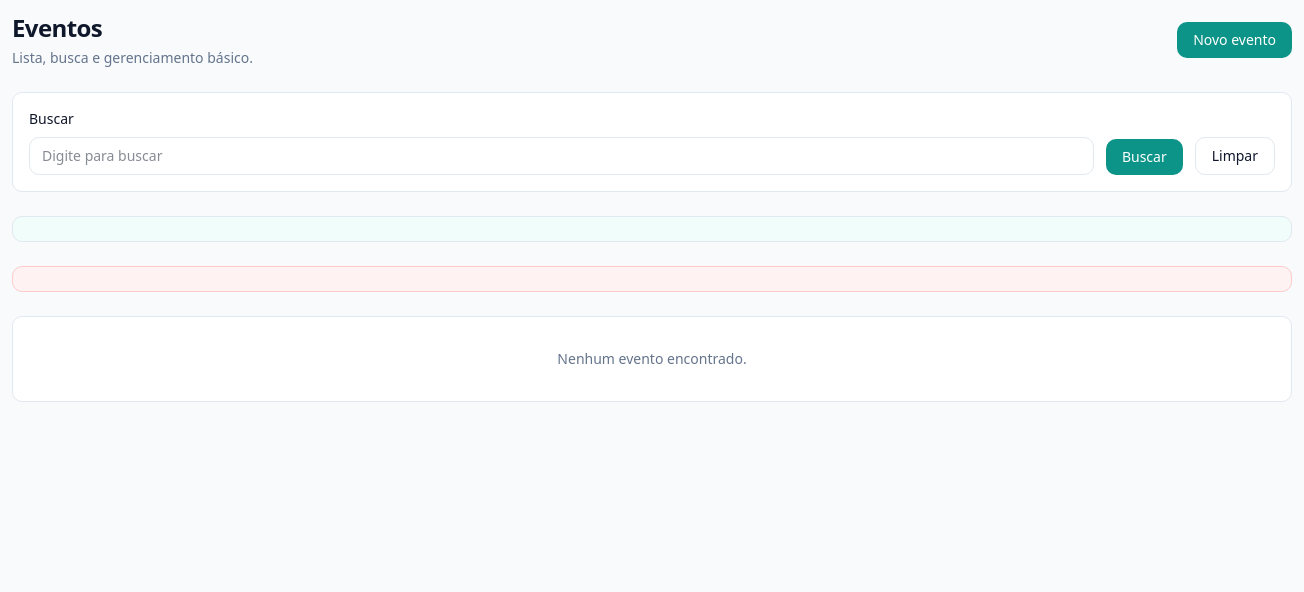
Test: EventoLista › searches by q on submit
Type "Vue" into the field with placeholder "Digite para buscar" at [561, 156], box [29,137,1094,175]
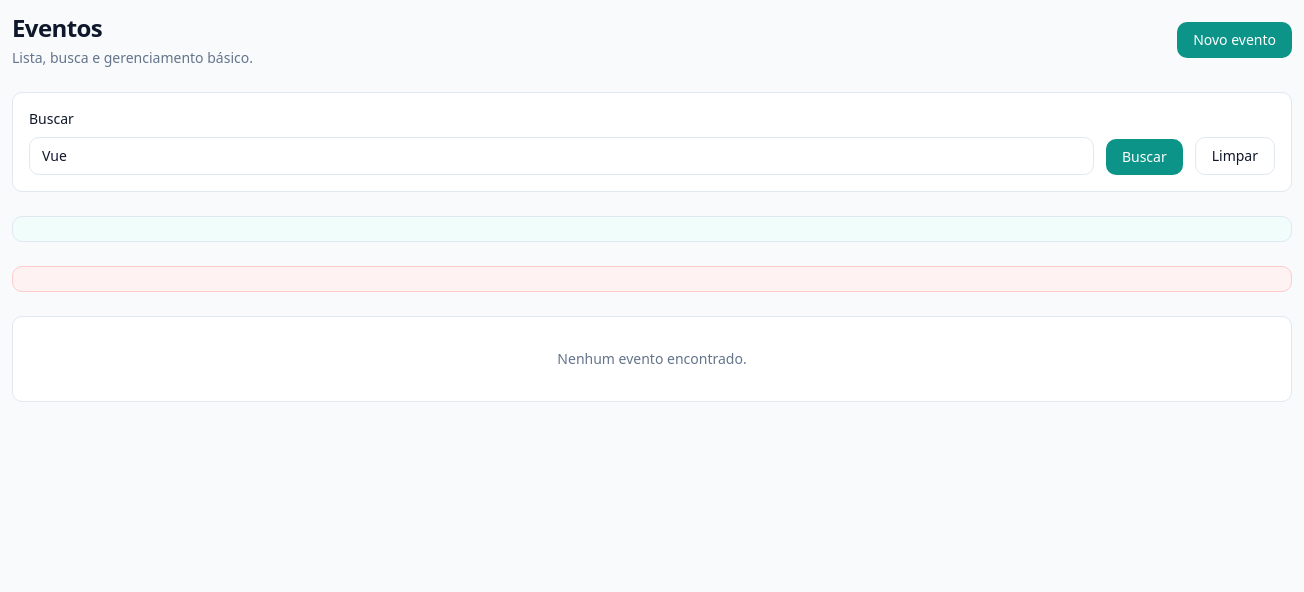
Submit the form, box [12,92,1292,192]
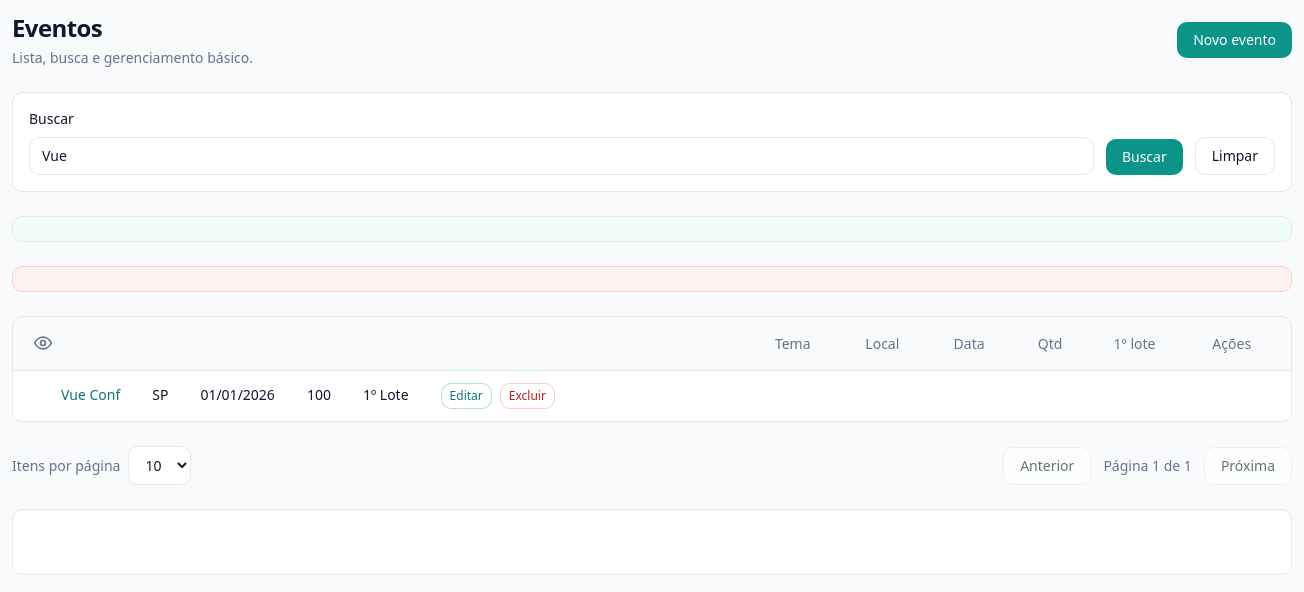
Result: the text "Vue Conf" is shown at [61,385,120,404]
